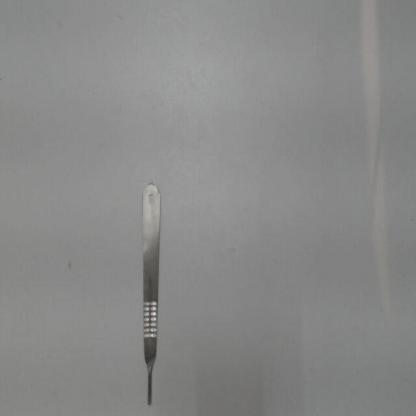No.3 BP Handle: (134, 174, 168, 410)
